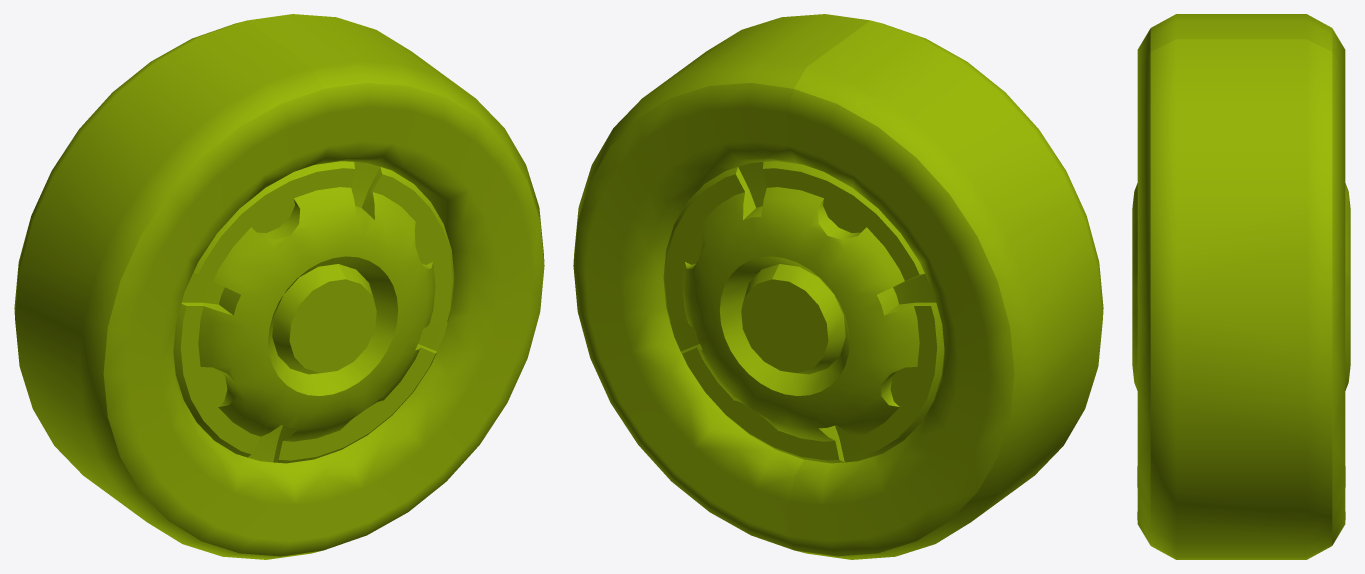
File: obj_vehicle_gripwheel_7x.fbx
3 renders of one model, left to right at view 1: azimuth 30°, elevation 25°; view 2: azimuth 150°, elevation 25°; view 3: azimuth 270°, elevation 25°, orthographic.
Visible parts, largest first — view 1: part1_lp.003; view 2: part1_lp.003; view 3: part1_lp.003.
Boxes of the visible parts, box(x1,y1,x2,y2) form: part1_lp.003: box(14, 14, 544, 559); part1_lp.003: box(573, 14, 1103, 559); part1_lp.003: box(1132, 14, 1350, 559).
Bounding box in the file's own units: 5 × 5 × 2.
